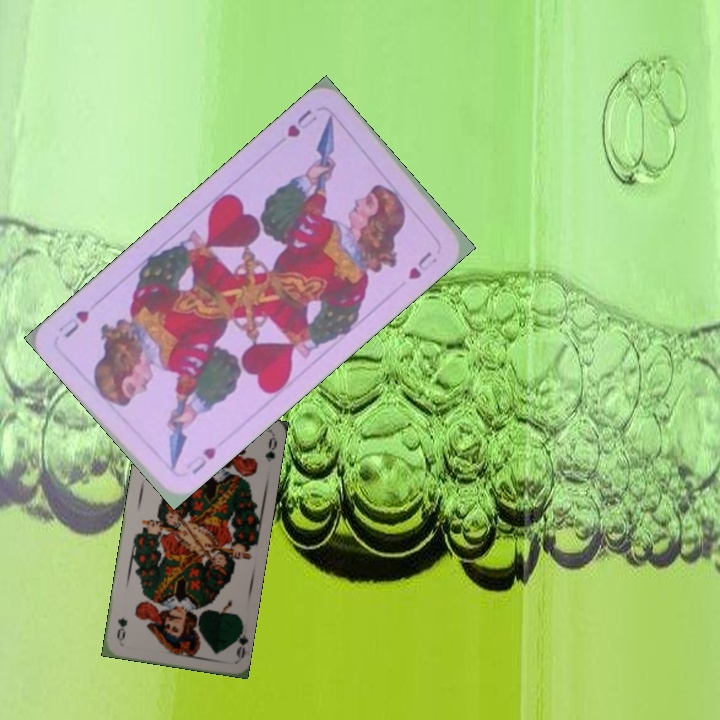GO: (229, 620, 249, 661)
HU: (177, 442, 219, 478), (283, 105, 320, 141)
